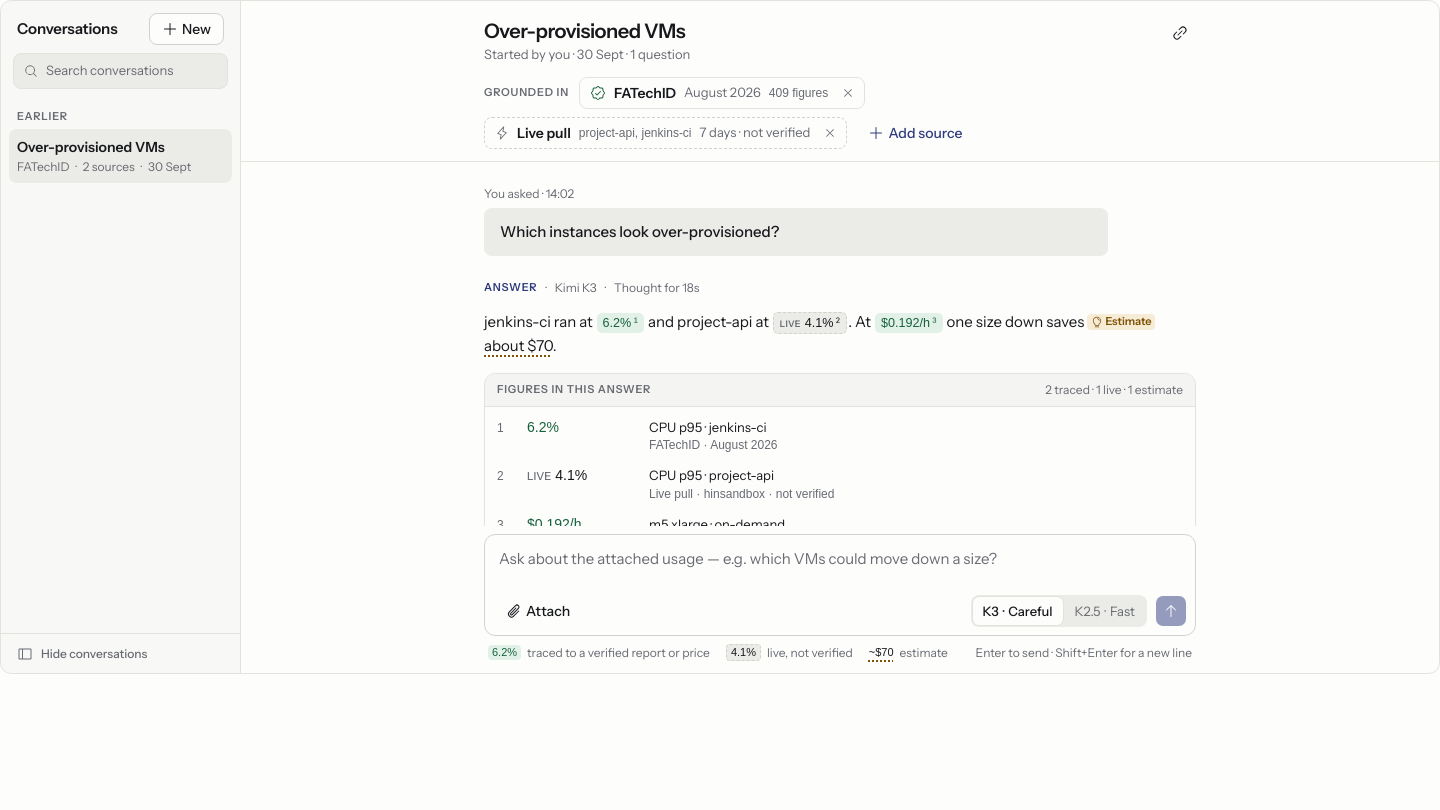
Test case: AskWorkspace, an open conversation › choosing a figure opens its trace, and the trace closes
This screenshot has width=1440, height=810.
Click the button named "6.2%, figure 1".
click(620, 323)  # box [597, 313, 644, 333]
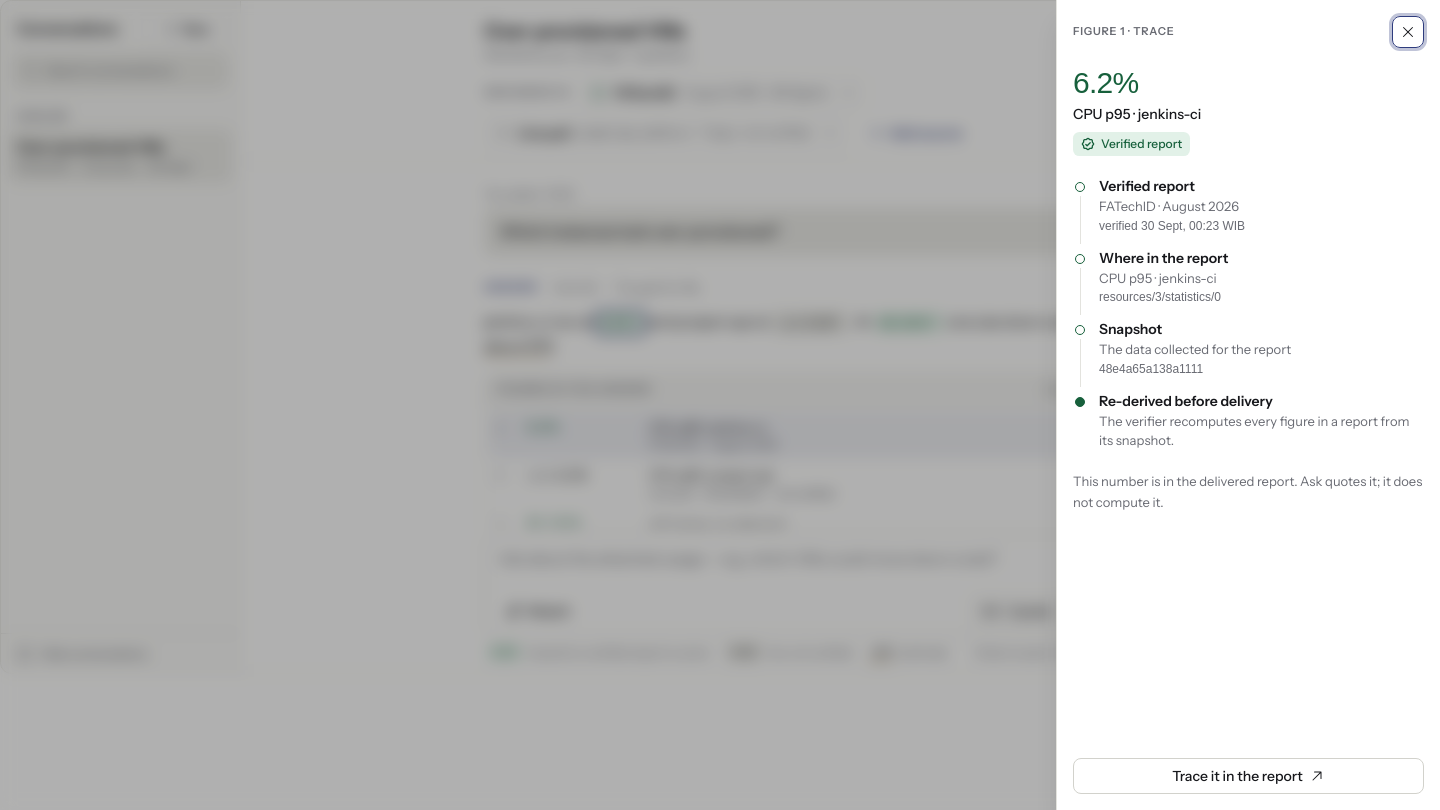
Result: the heading "Figure 1 · trace" is shown at [1073, 24, 1174, 40]
Result: the text "resources/3/statistics/0" is shown at [1099, 290, 1221, 304]
Result: the text "48e4a65a138a1111" is shown at [1099, 362, 1203, 376]
Click the button named "Close figure trace".
click(1408, 32)  # box [1392, 16, 1424, 48]
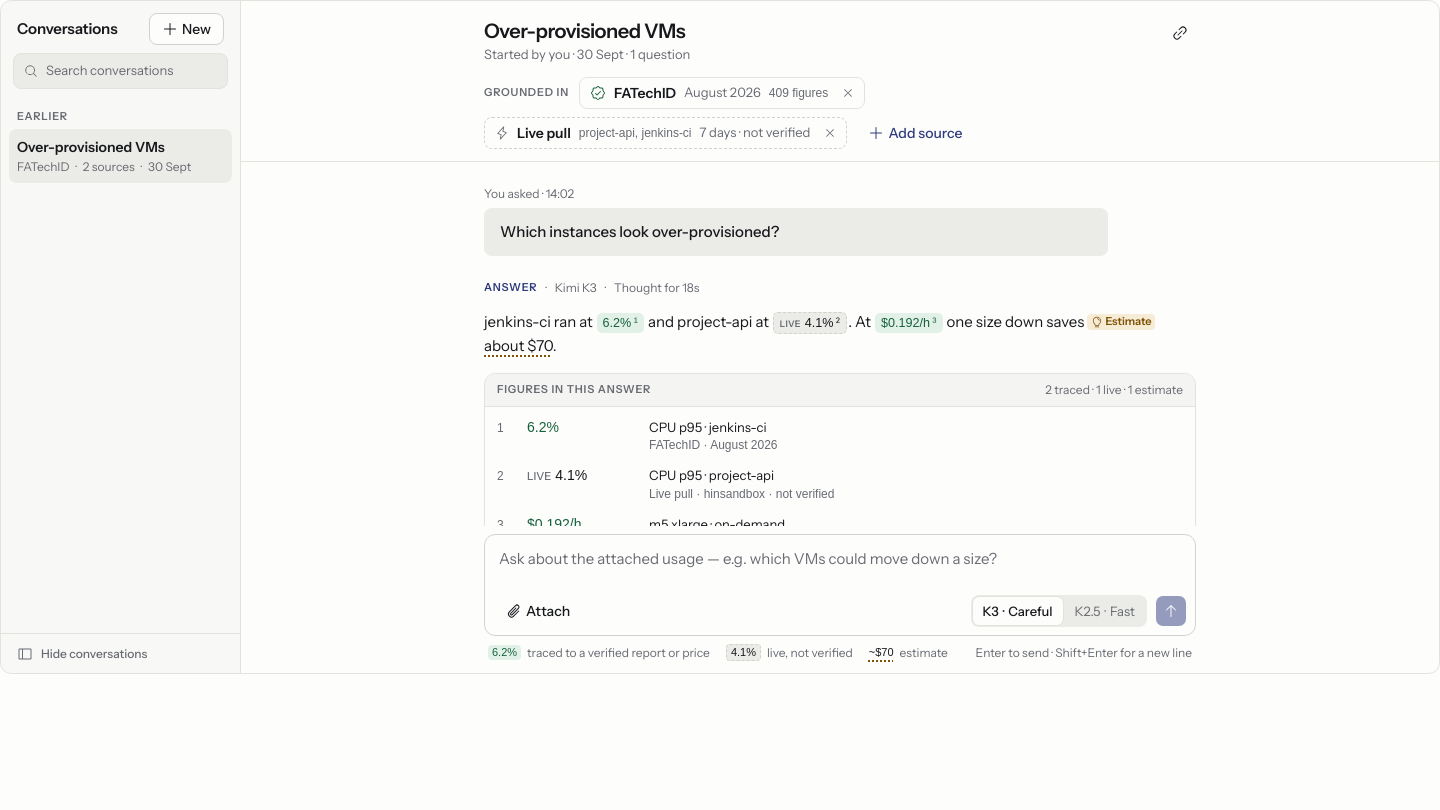
Result: the dialog is gone
